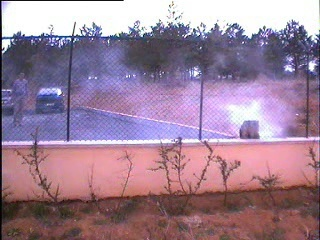smoke: (182, 65, 303, 138)
